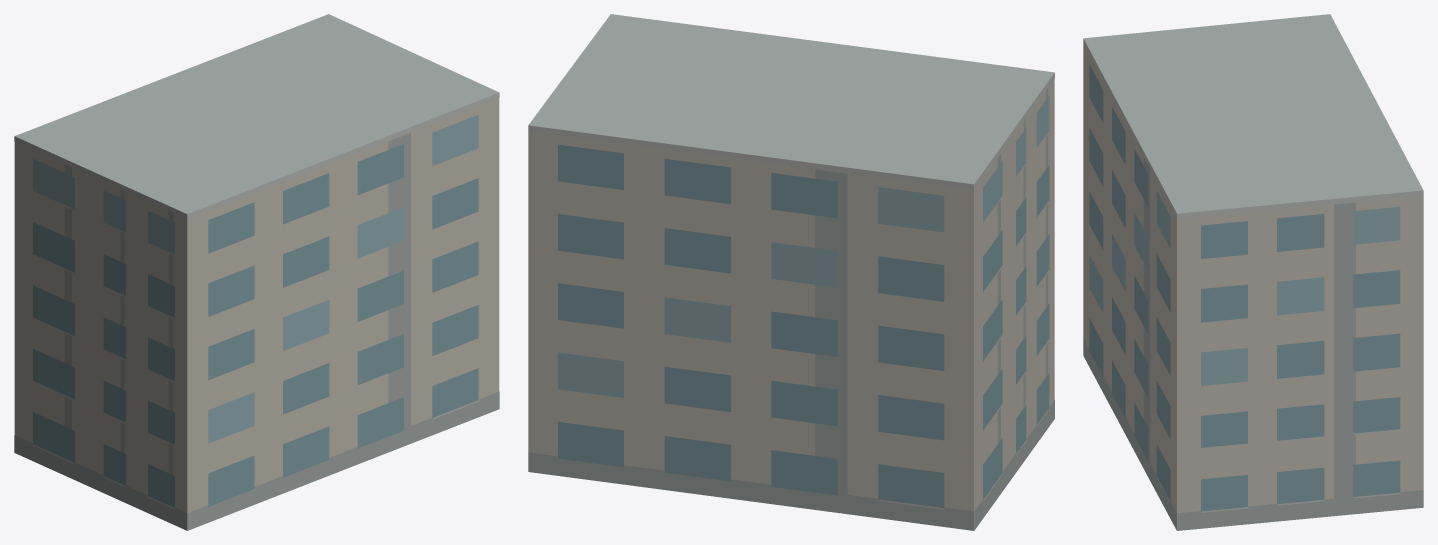
Rendered from survey-upis-32919287.glb.
The picture shows the model from 3 angles, left to right: view 1: azimuth 30°, elevation 25°; view 2: azimuth 150°, elevation 25°; view 3: azimuth 270°, elevation 25°; orthographic projection. The views are drawn at different scales.
Visible parts, largest first — view 1: survey-upis-32919287.tmp; view 2: survey-upis-32919287.tmp; view 3: survey-upis-32919287.tmp.
Part boxes in pixels (box(x1,y1,x2,y2)): survey-upis-32919287.tmp: box(14, 14, 499, 530); survey-upis-32919287.tmp: box(528, 14, 1054, 530); survey-upis-32919287.tmp: box(1083, 14, 1423, 530).
Bounding box in the file's own units: 18.41 × 13.63 × 13.26.
